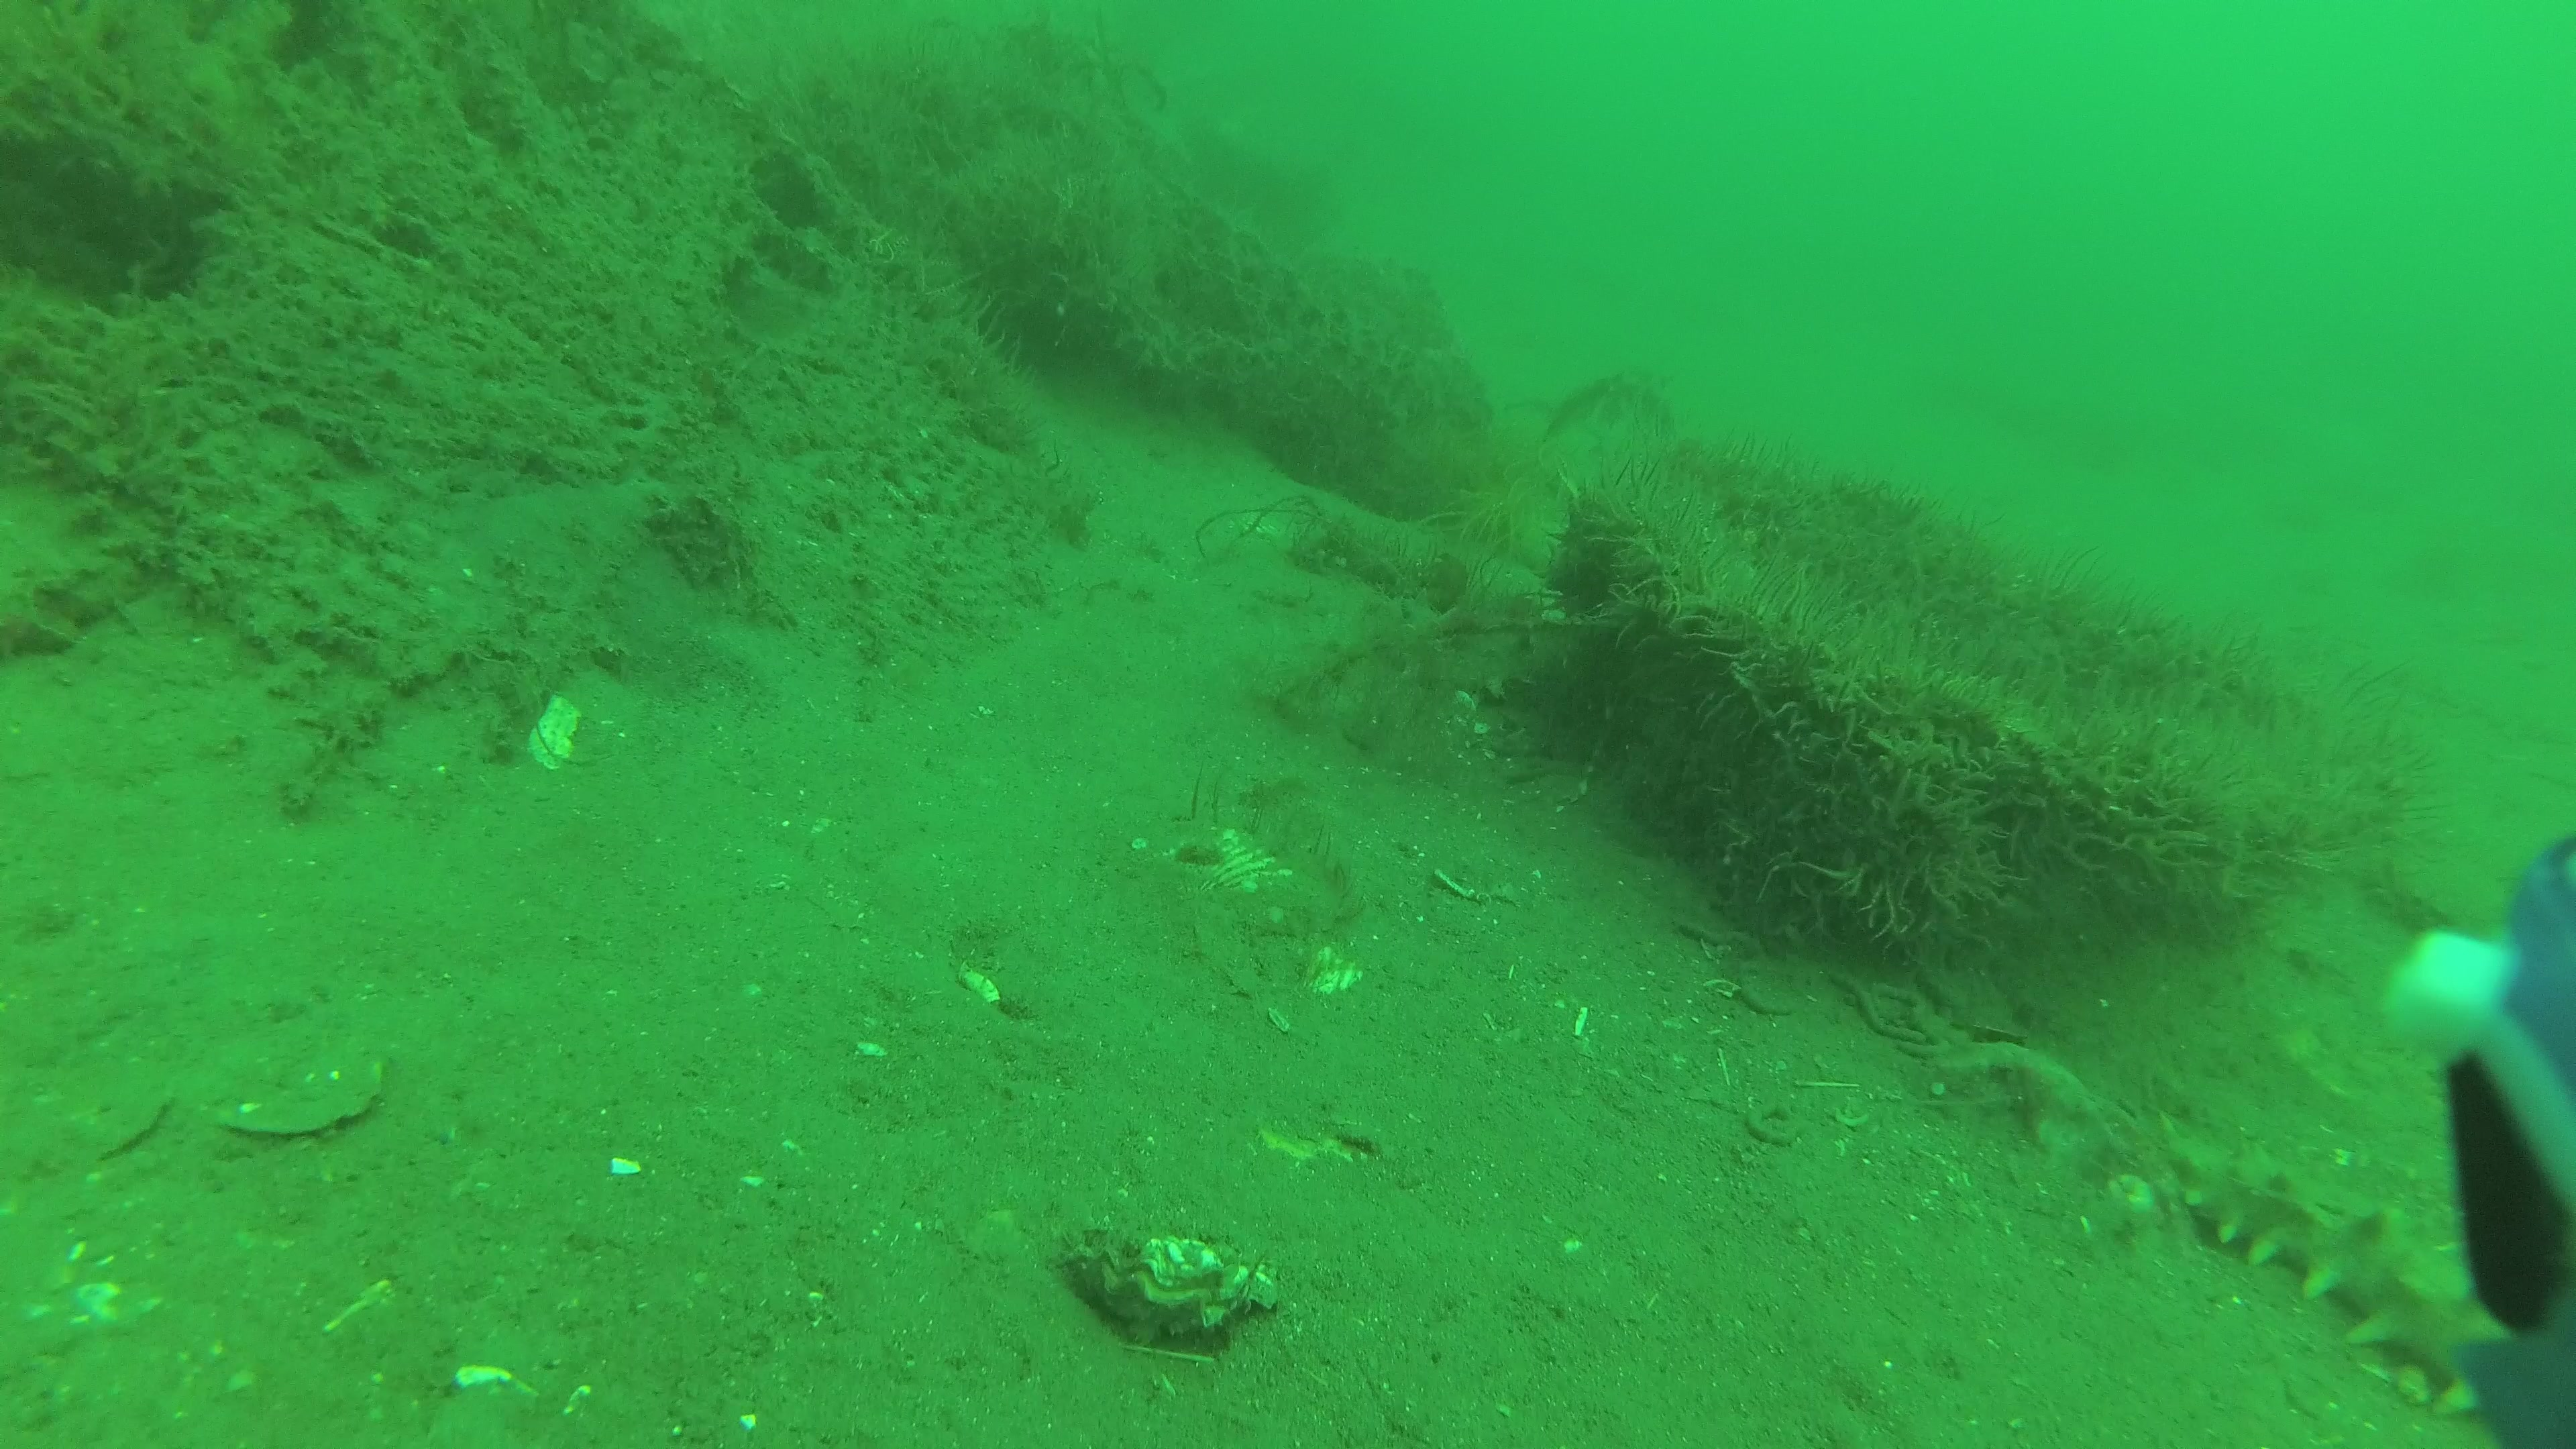holothurian: (2158, 1120, 2489, 1401)
